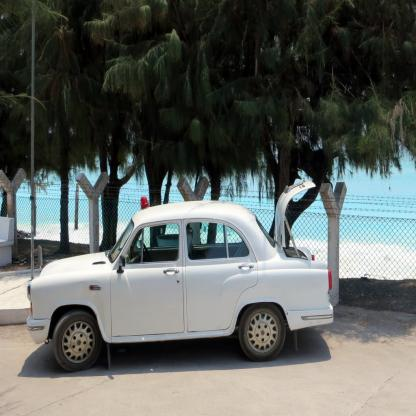Car: (28, 182, 334, 373)
